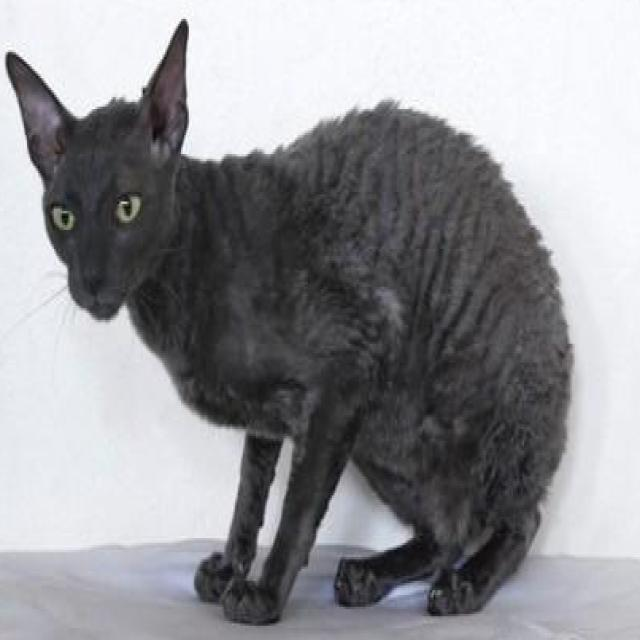Cornish Rex: (2, 12, 578, 632)
